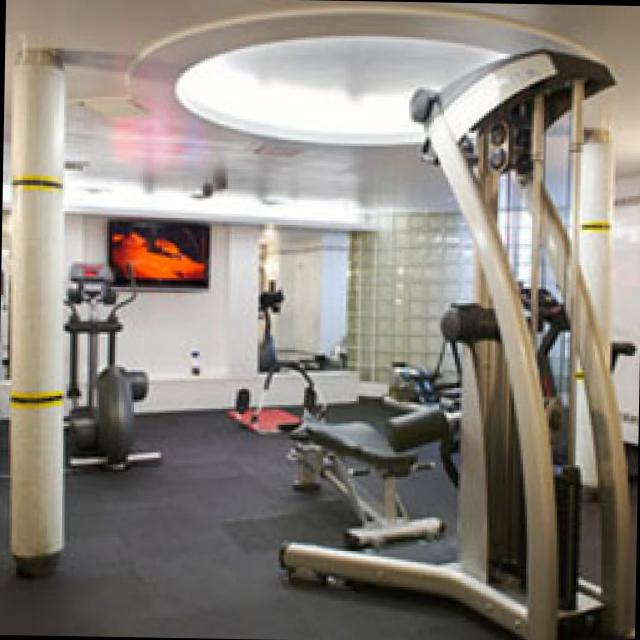ceiling beam: (10, 0, 640, 201)
column occluded: (11, 42, 69, 572)
floor -X: (0, 391, 638, 640)
gym machine: (283, 44, 634, 640), (67, 258, 163, 469), (291, 412, 444, 541)
mirror crop: (262, 224, 364, 371)
picture crop: (111, 214, 212, 288)
wall clock: (1, 177, 377, 417), (366, 171, 640, 434)
